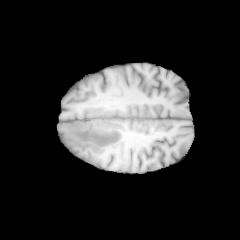glioma: (68, 119, 121, 147)
